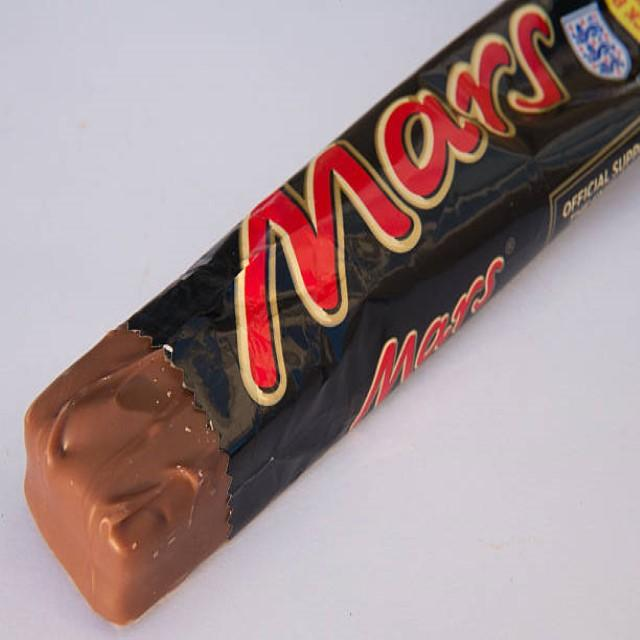mars_chocolate: (212, 7, 622, 498)
